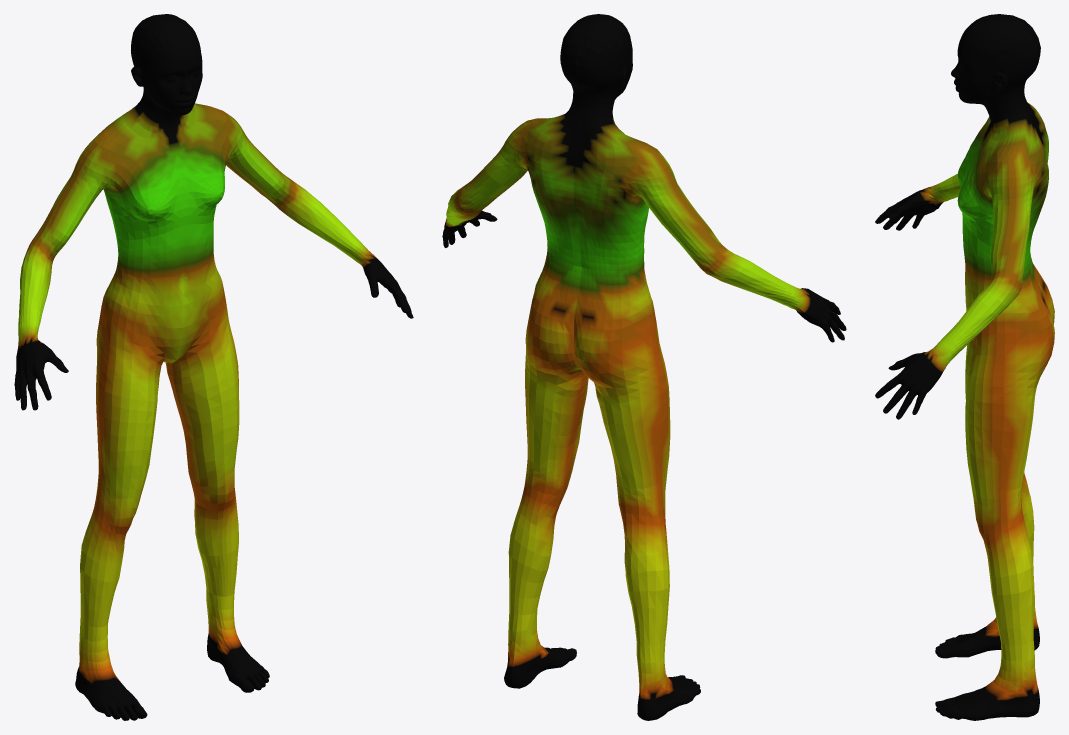
The model's file is female-athletic.glb.
3 renders of one model, left to right at view 1: azimuth 30°, elevation 25°; view 2: azimuth 150°, elevation 25°; view 3: azimuth 270°, elevation 25°, orthographic.
Parts seen in each view (by area): view 1: world; view 2: world; view 3: world.
Part boxes in pixels (x1,y1,x2,y2): world: [14, 14, 413, 720]; world: [442, 14, 846, 720]; world: [875, 14, 1054, 720].
Size of the model in its own units: 1.12 by 1.82 by 0.4458.
